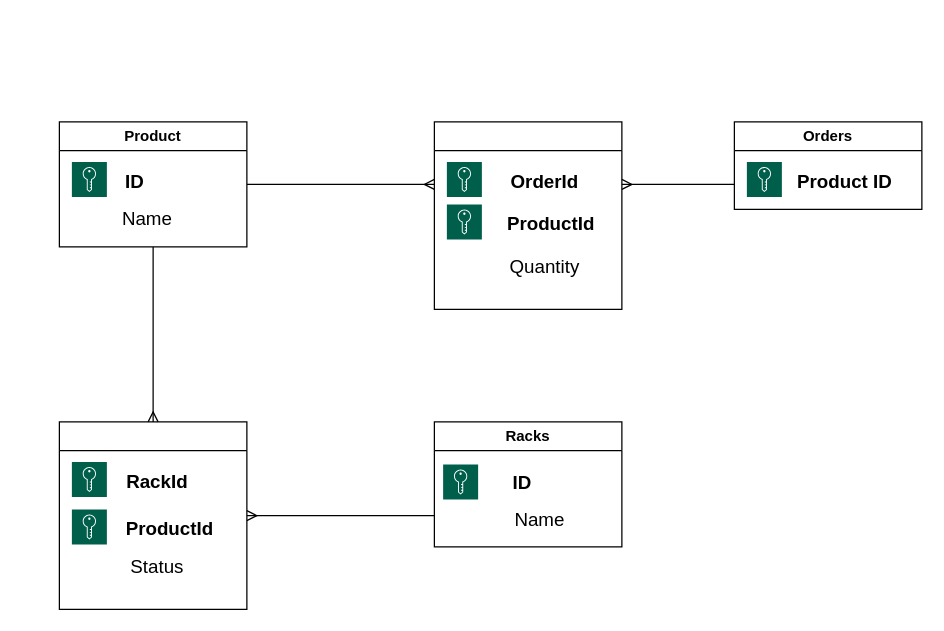
Some shapes in this 944 by 631 pixel diagram are drawn without their labels. The box of each missing label's shape, as (x1, y1, x2, y2) in pixels:
OrderProducts: (433, 121, 622, 309)
RacksProduct: (58, 421, 247, 609)
